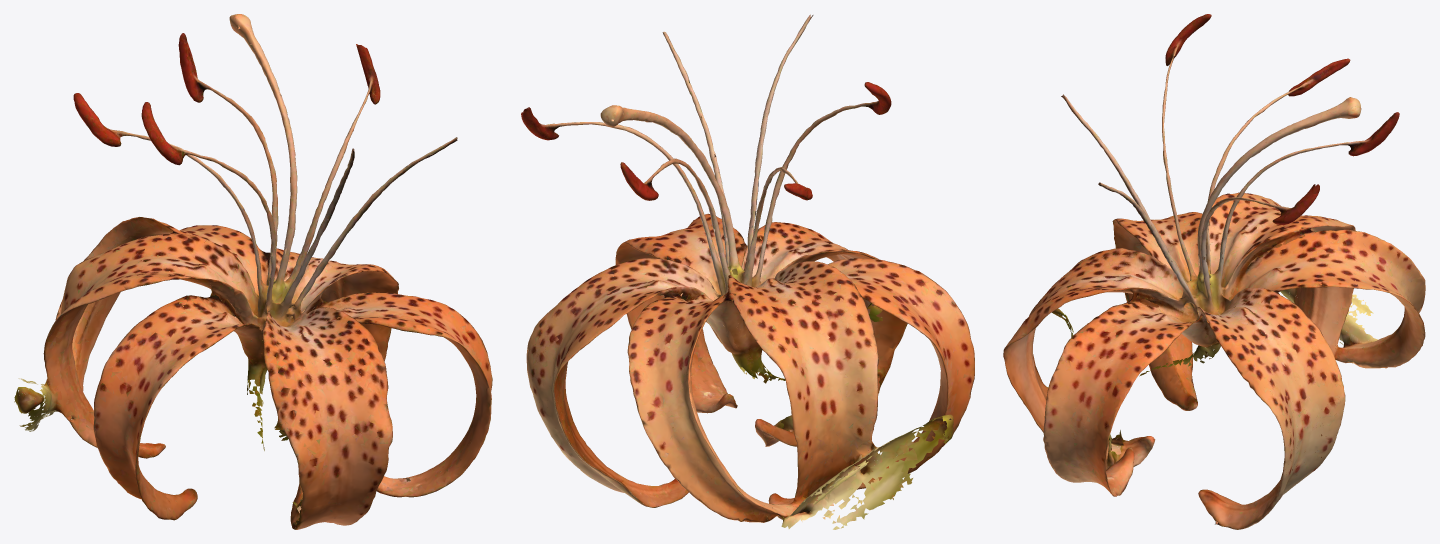
Rendered from tiger-lily.glb.
3 views of the same model, side by side, from view 1: azimuth 30°, elevation 25°; view 2: azimuth 150°, elevation 25°; view 3: azimuth 270°, elevation 25° (orthographic). The views are drawn at different scales.
Visible parts, largest first — view 1: Object_6; view 2: Object_6; view 3: Object_6.
Boxes of the visible parts, x1,y1,x2,y2 form: Object_6: (14, 14, 492, 529); Object_6: (521, 14, 974, 529); Object_6: (1003, 14, 1425, 529).
Bounding box in the file's own units: 0.9801 × 1.03 × 0.9514.
2 materials, 2 textured.
